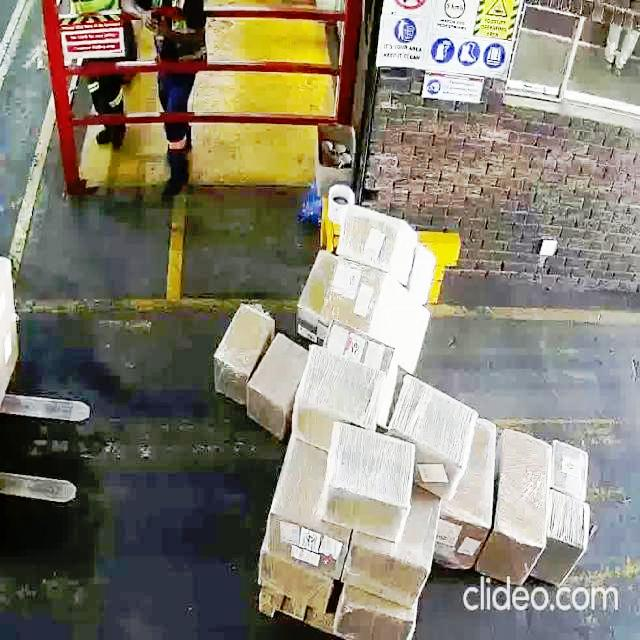Box: (320, 423, 416, 541), (393, 373, 478, 499), (335, 268, 430, 356), (496, 430, 544, 594), (297, 344, 380, 436), (344, 207, 414, 276), (209, 299, 262, 389), (268, 509, 340, 574), (546, 491, 590, 584), (253, 340, 300, 425), (350, 542, 420, 598), (338, 597, 418, 640), (440, 499, 478, 579), (552, 436, 592, 494)
